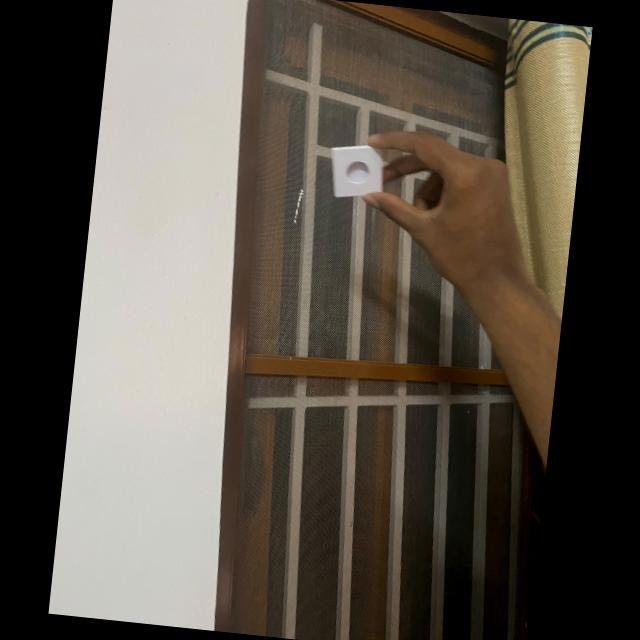RASPBERY PI CAM ENCLOSURE: (325, 140, 387, 202)
